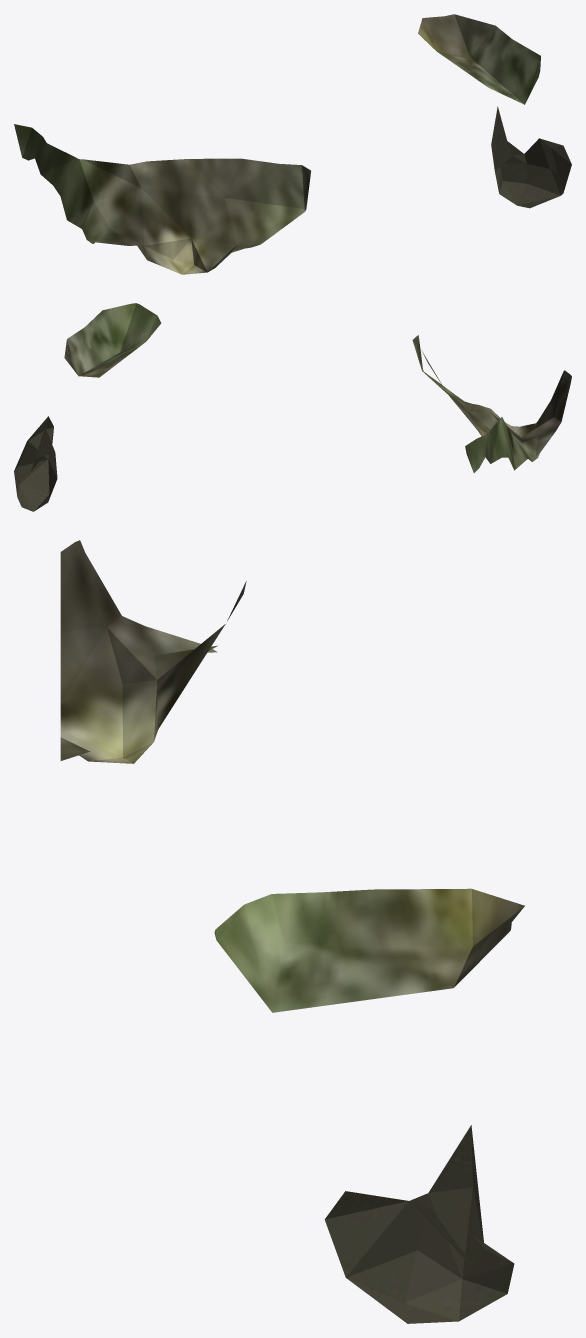
The picture shows the model from 3 angles, top to bottom: view 1: azimuth 30°, elevation 25°; view 2: azimuth 150°, elevation 25°; view 3: azimuth 270°, elevation 25°; orthographic projection. The views are drawn at different scales.
Bounding box in the file's own units: 2.6 × 0.9154 × 1.11.
Materials: 1 (1 with a texture image).
